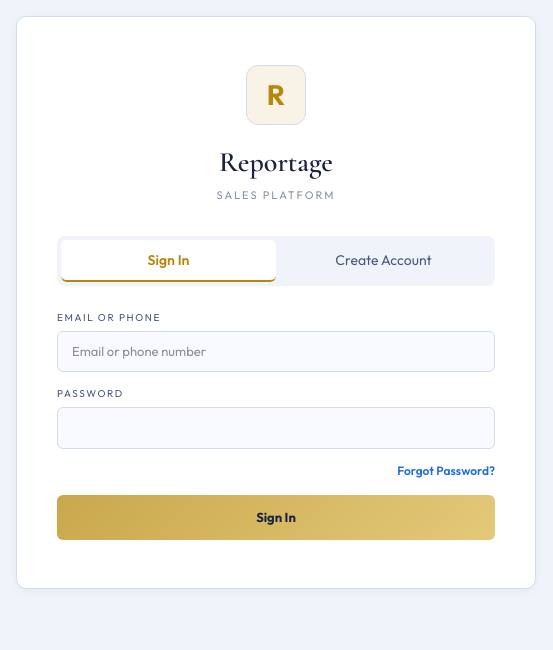
Test case: Authentication Module Tests › Login Component › enforces rate-limiting upon consecutive failures
Type "locked@example.com" into the field with placeholder "Email or phone number" at (276, 351), box [57, 330, 495, 372]
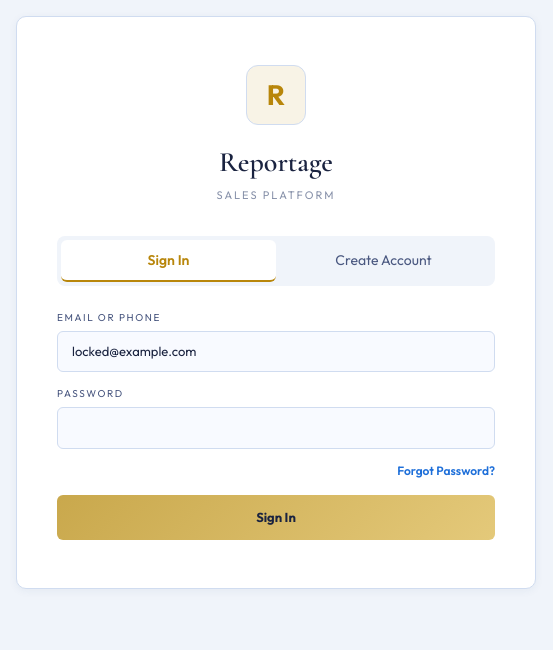
Type "password123" into the password field at (276, 428), box [57, 407, 495, 448]
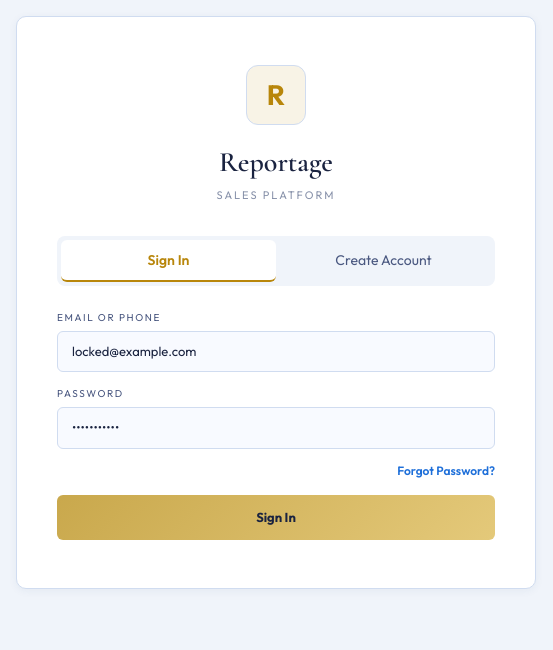
Click the button "Sign In" at (276, 517), box [57, 494, 495, 540]
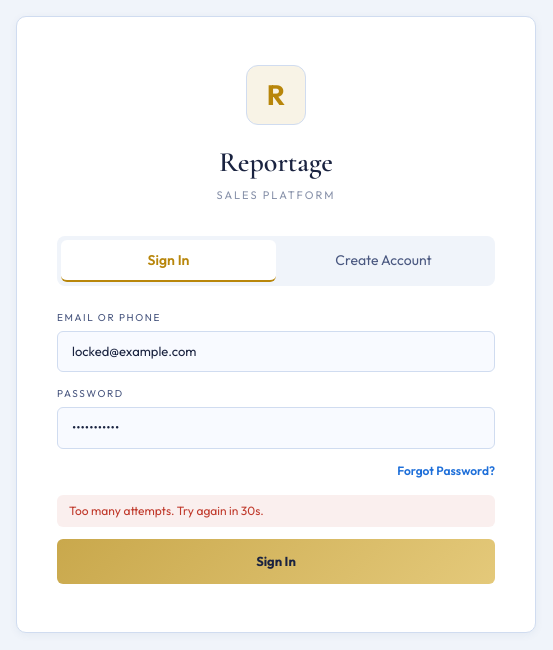
Check: the text "Too many attempts. Try again in 30s." is shown, box [57, 494, 495, 526]
